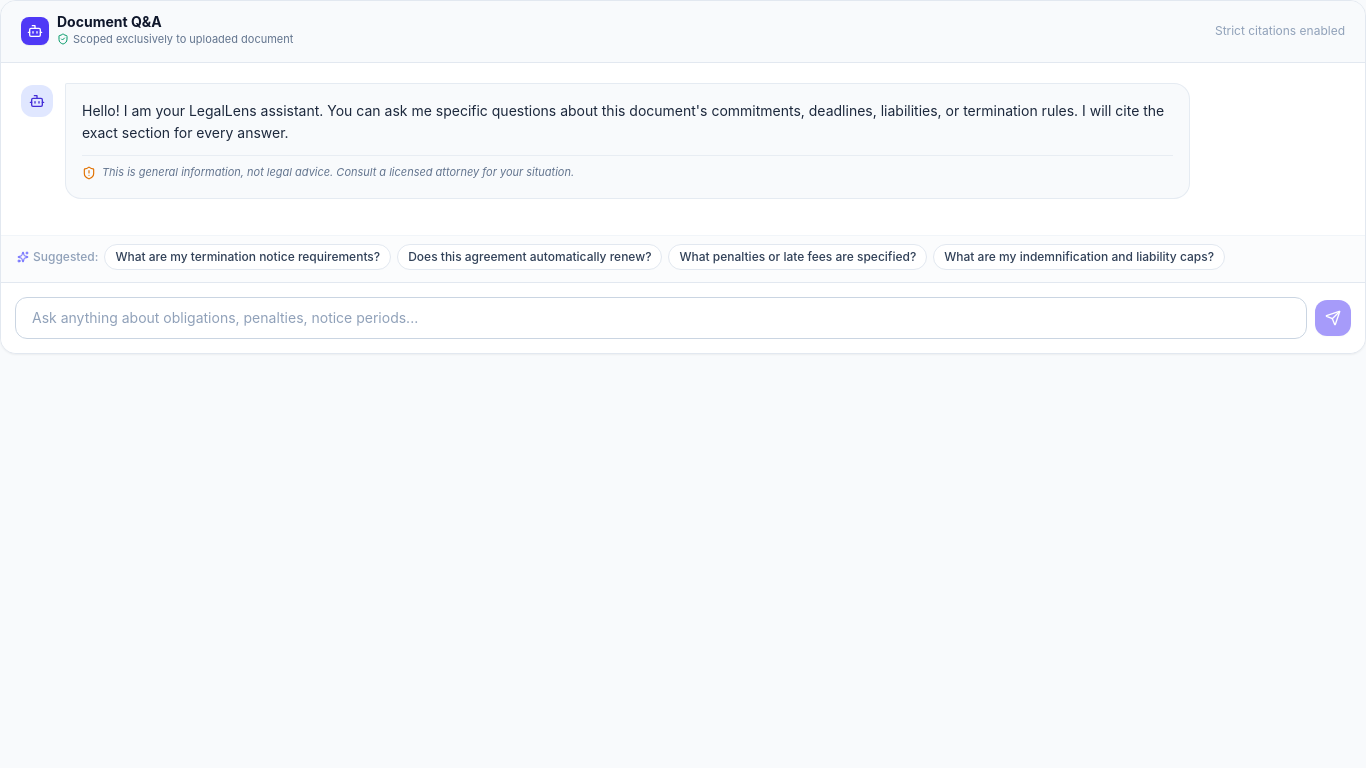
Test: Flow 4: Document Q&A Chat Streaming & Citation Highlighting › handles API error responses gracefully without crashing
Type "Will this fail?" into the field with placeholder "Ask anything about obligations" at (661, 318), box [15,297,1307,339]
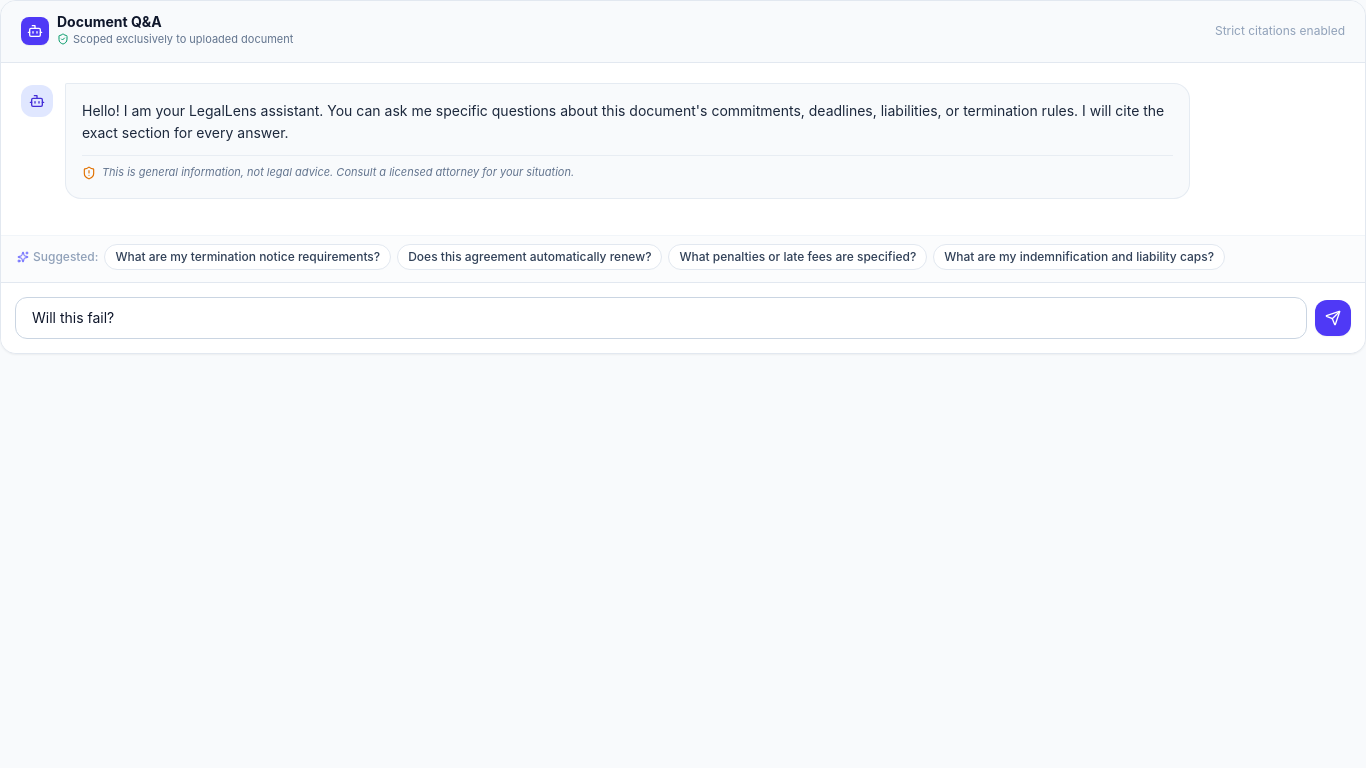
Click the button named "send question" at (1333, 318), box [1315,300,1351,336]
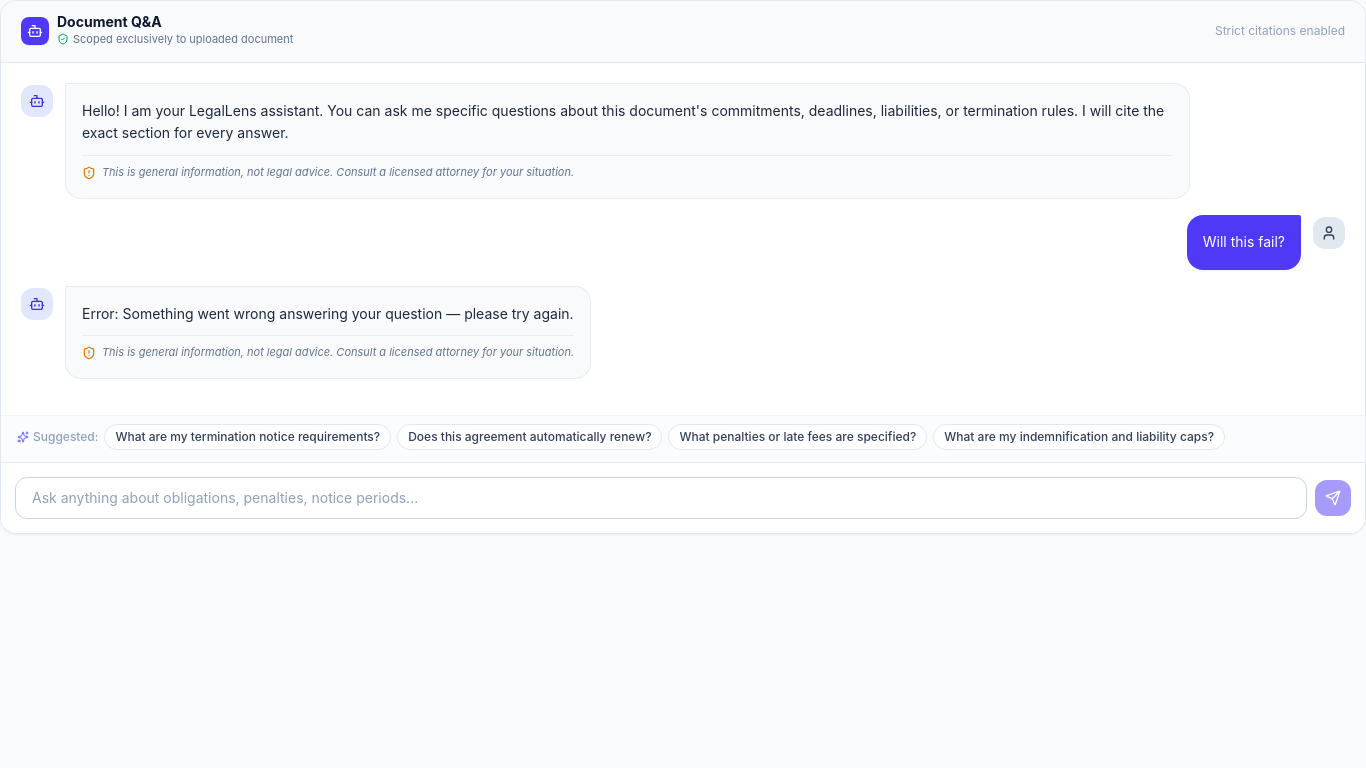
Expected: the text "Error: Something went wrong answering your question" is shown, [82,305,574,322]
